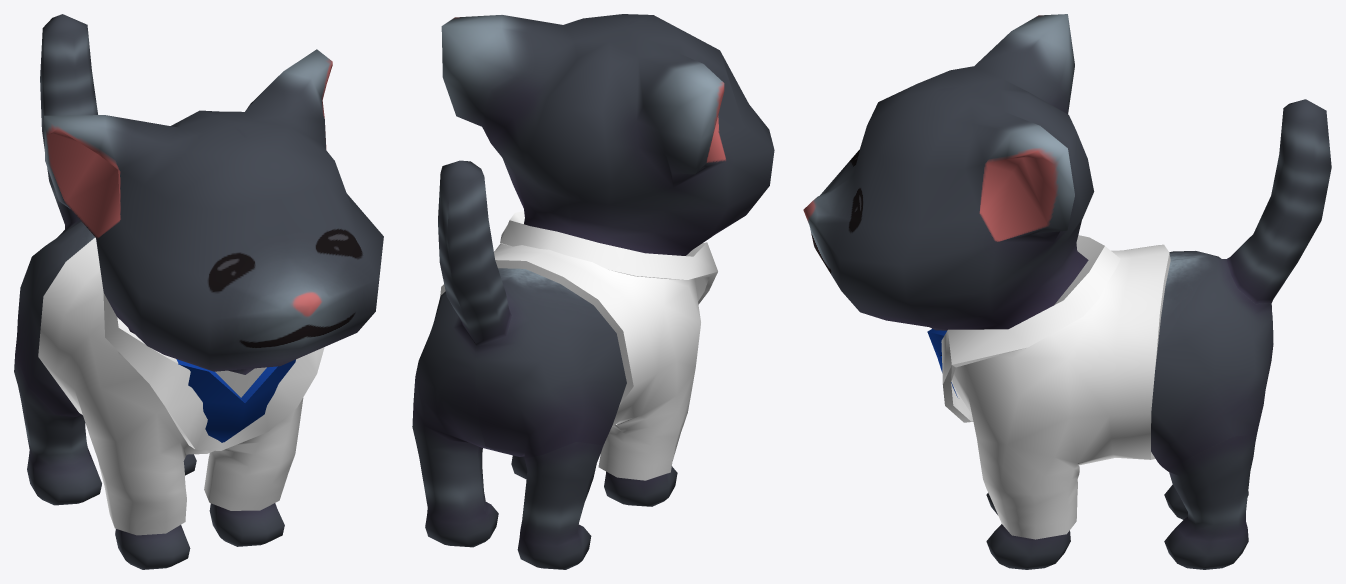
Rendered from Doctor Cat04.fbx.
The picture shows the model from 3 angles, left to right: view 1: azimuth 30°, elevation 25°; view 2: azimuth 150°, elevation 25°; view 3: azimuth 270°, elevation 25°; orthographic projection. The views are drawn at different scales.
Visible parts, largest first — view 1: Cat_Base003, Doctor_Cat_Scrubs; view 2: Cat_Base003, Doctor_Cat_Scrubs; view 3: Cat_Base003, Doctor_Cat_Scrubs.
Boxes of the visible parts, box(x1,y1,x2,y2) form: Cat_Base003: box(14, 14, 383, 569); Doctor_Cat_Scrubs: box(38, 237, 324, 535); Cat_Base003: box(412, 14, 774, 569); Doctor_Cat_Scrubs: box(440, 211, 717, 480); Cat_Base003: box(803, 14, 1331, 569); Doctor_Cat_Scrubs: box(927, 235, 1170, 539).
Size of the model in its own units: 1.75 by 2.83 by 2.68.
Materials: 3 (1 with a texture image).
